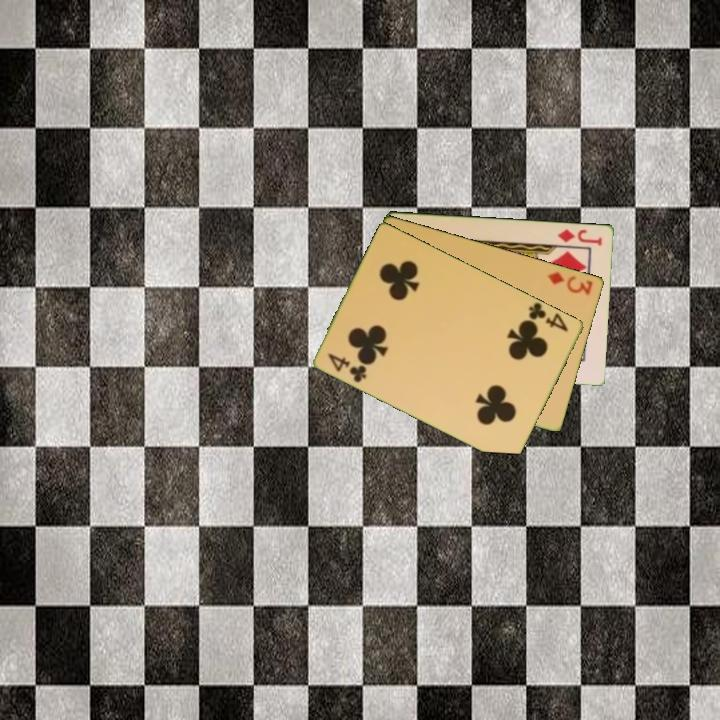3d: (545, 267, 596, 298)
4c: (324, 349, 370, 385), (525, 299, 572, 334)
Jd: (555, 225, 605, 248)
